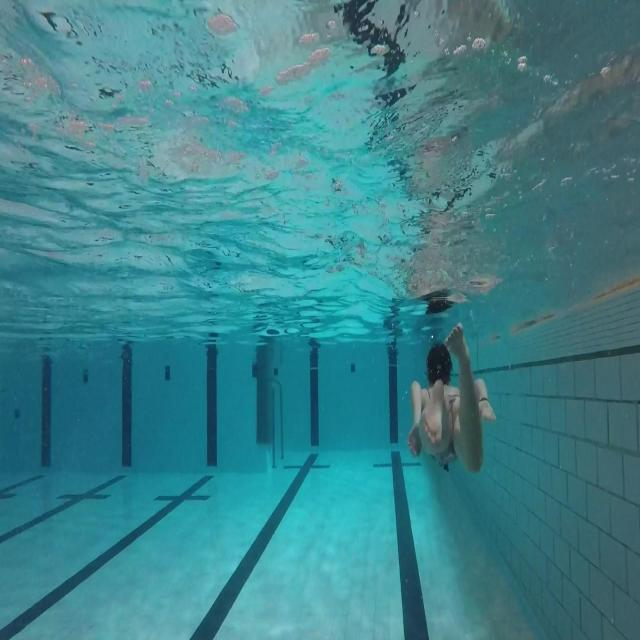human: (407, 322, 496, 473)
